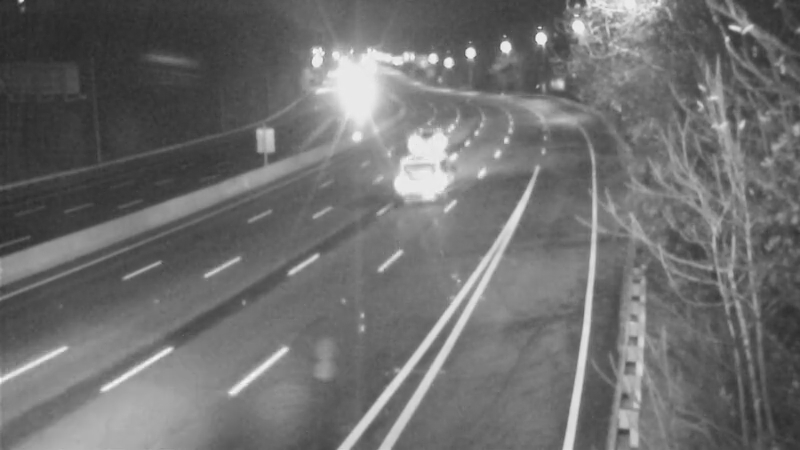vehicle: (383, 141, 463, 221), (398, 118, 448, 168)
